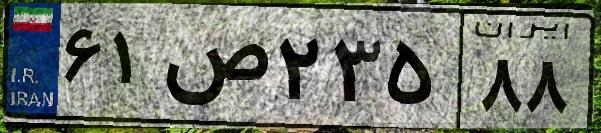1: (110, 28, 158, 98)
2: (270, 28, 330, 110)
3: (330, 28, 385, 110)
5: (385, 28, 445, 110)
6: (57, 26, 110, 100)
8: (475, 38, 525, 113), (525, 38, 570, 115)
ص: (158, 20, 270, 120)
